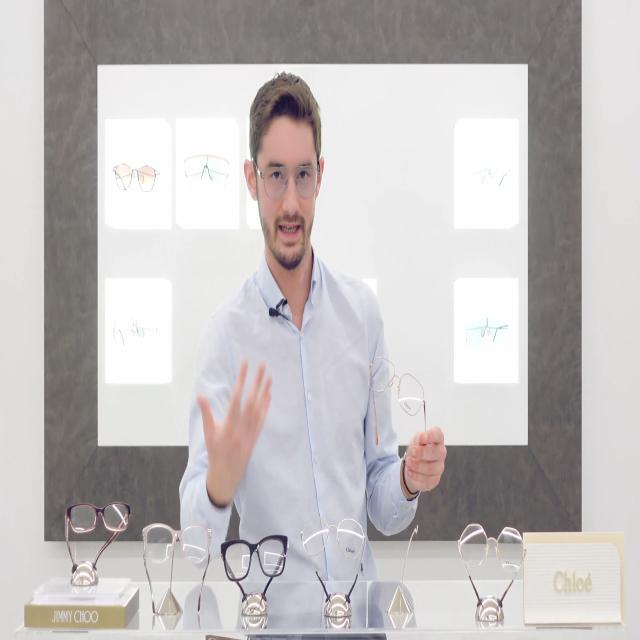dress: (180, 245, 418, 582)
glasses: (366, 351, 425, 418), (458, 520, 524, 573), (220, 532, 287, 582), (303, 514, 365, 560), (66, 496, 131, 538), (144, 523, 209, 564), (262, 157, 318, 202), (112, 160, 156, 197), (184, 151, 228, 185)
